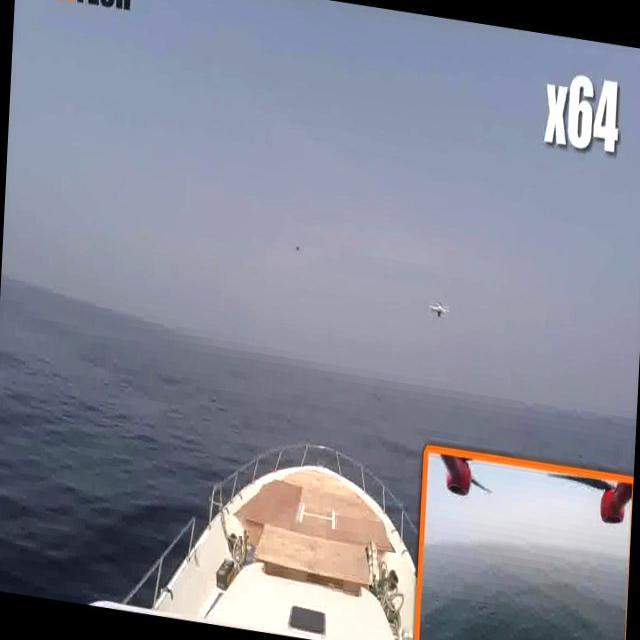drone: (423, 292, 453, 328), (290, 238, 309, 260)
